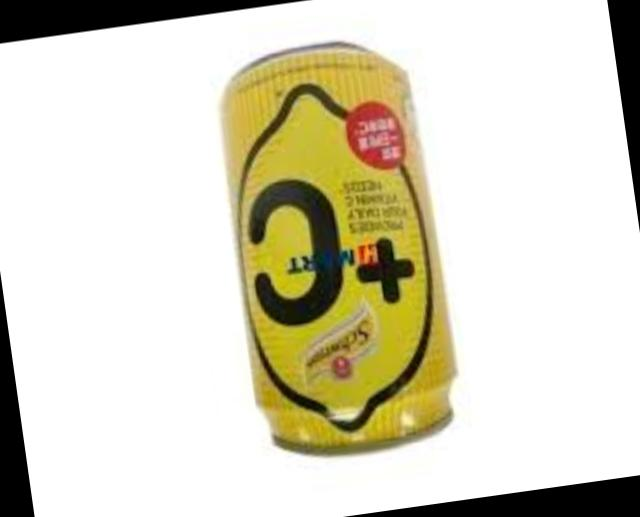metal: (227, 49, 457, 458)
